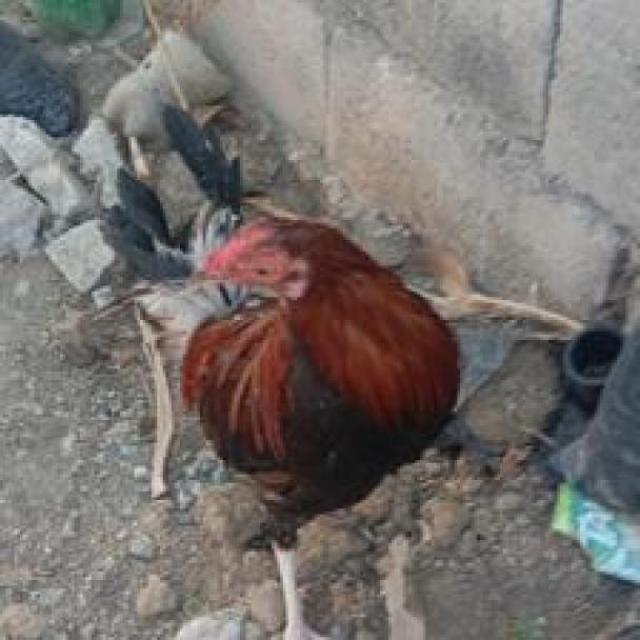Chicken: (109, 207, 497, 640)
